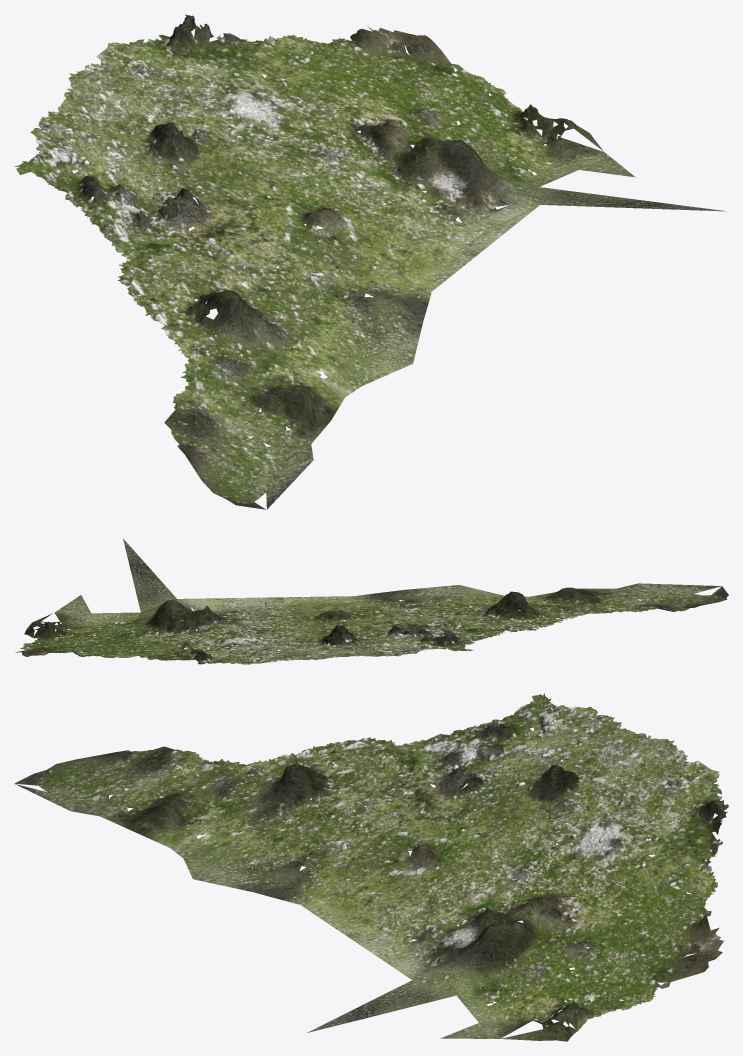
3 renders of one model, top to bottom at view 1: azimuth 30°, elevation 25°; view 2: azimuth 150°, elevation 25°; view 3: azimuth 270°, elevation 25°, orthographic. The views are drawn at different scales.
Bounding box in the file's own units: 46.45 × 9.21 × 48.54.
1 material, 1 textured.
